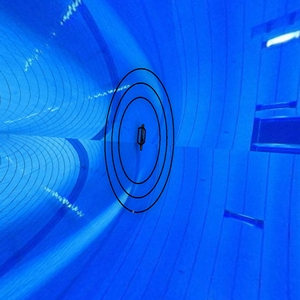circle: (102, 64, 178, 218)
submarine: (135, 122, 152, 155)
